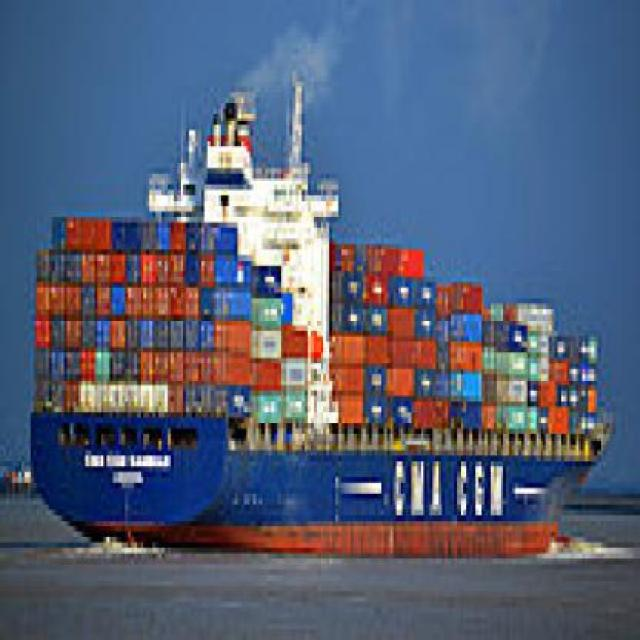container: (19, 66, 617, 566)
